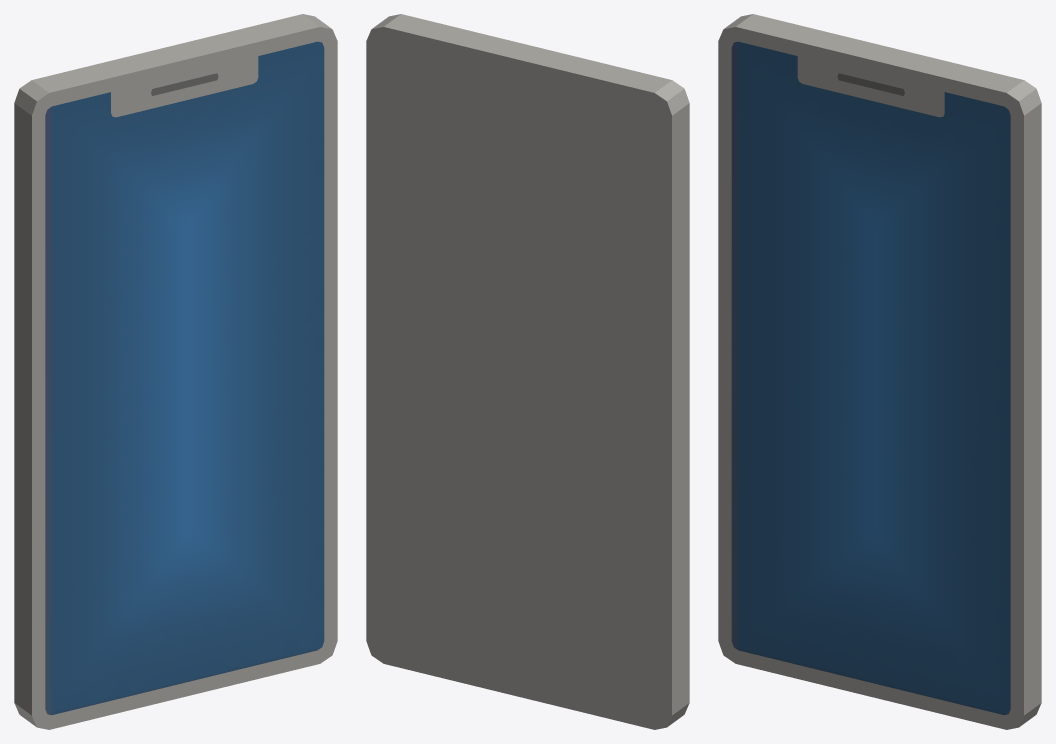
Rendered from SM_Props_Interior_Shop_Electronic_Mobile_01.fbx.
The picture shows the model from 3 angles, left to right: view 1: azimuth 30°, elevation 25°; view 2: azimuth 150°, elevation 25°; view 3: azimuth 330°, elevation 25°; orthographic projection.
Parts seen in each view (by area): view 1: SM_Props_Interior_Shop_Electronic_Mobile_01; view 2: SM_Props_Interior_Shop_Electronic_Mobile_01; view 3: SM_Props_Interior_Shop_Electronic_Mobile_01.
Boxes of the visible parts, x1,y1,x2,y2 form: SM_Props_Interior_Shop_Electronic_Mobile_01: [14, 14, 337, 729]; SM_Props_Interior_Shop_Electronic_Mobile_01: [366, 14, 689, 729]; SM_Props_Interior_Shop_Electronic_Mobile_01: [718, 14, 1041, 729].
Bounding box in the file's own units: 7.03 × 14 × 0.7.
